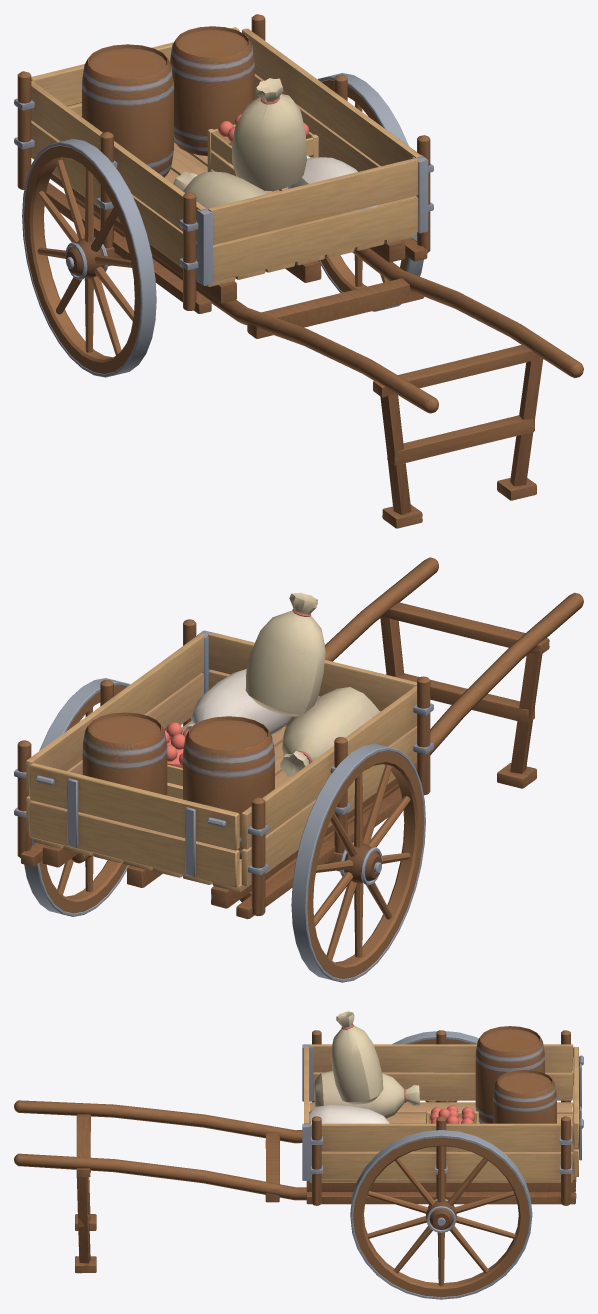
The model's file is carro_caballo.glb.
3 views of the same model, one above another, from view 1: azimuth 30°, elevation 25°; view 2: azimuth 150°, elevation 25°; view 3: azimuth 270°, elevation 25° (orthographic). The views are drawn at different scales.
Parts seen in each view (by area): view 1: horse-cart_apples; view 2: horse-cart_apples; view 3: horse-cart_apples.
Part boxes in pixels (x1=…): horse-cart_apples: x1=14, y1=14, x2=583, y2=528; horse-cart_apples: x1=14, y1=557, x2=583, y2=982; horse-cart_apples: x1=14, y1=1011, x2=583, y2=1299.
Size of the model in its own units: 1.85 by 1.72 by 3.89.
Materials: 8 (2 with a texture image).
